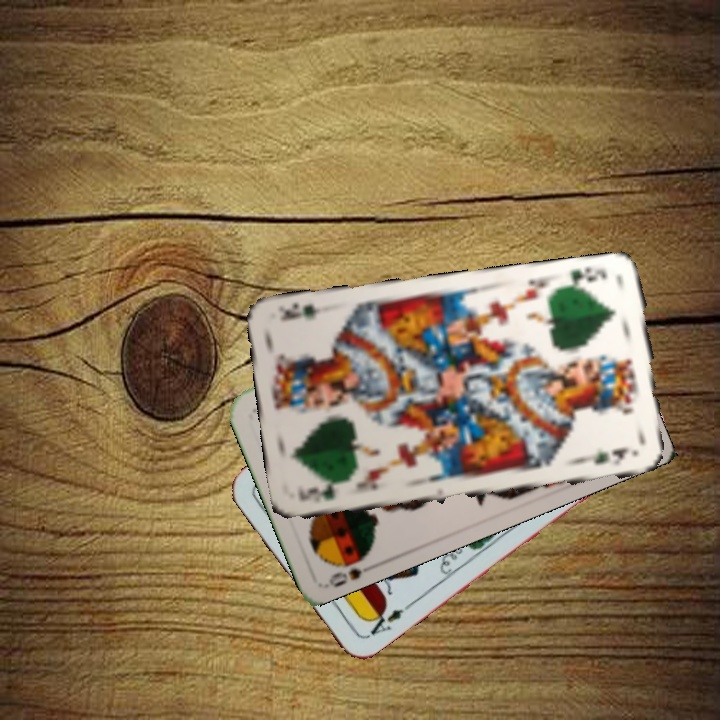EA: (362, 600, 413, 641)
GK: (560, 262, 610, 291), (294, 482, 338, 505)
SO: (324, 546, 374, 590)
